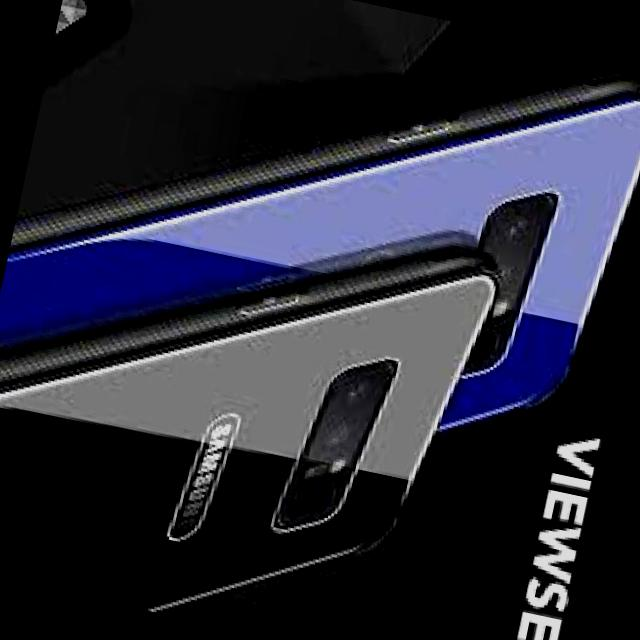lens_back: (485, 190, 547, 253), (318, 364, 388, 416), (302, 406, 361, 458), (472, 248, 522, 300)
